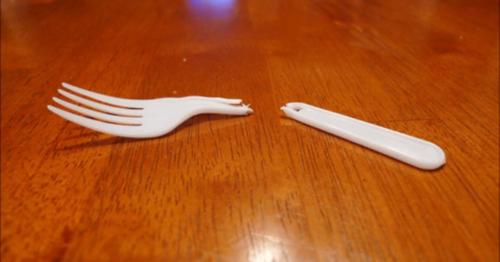Fork: (47, 82, 450, 175)
